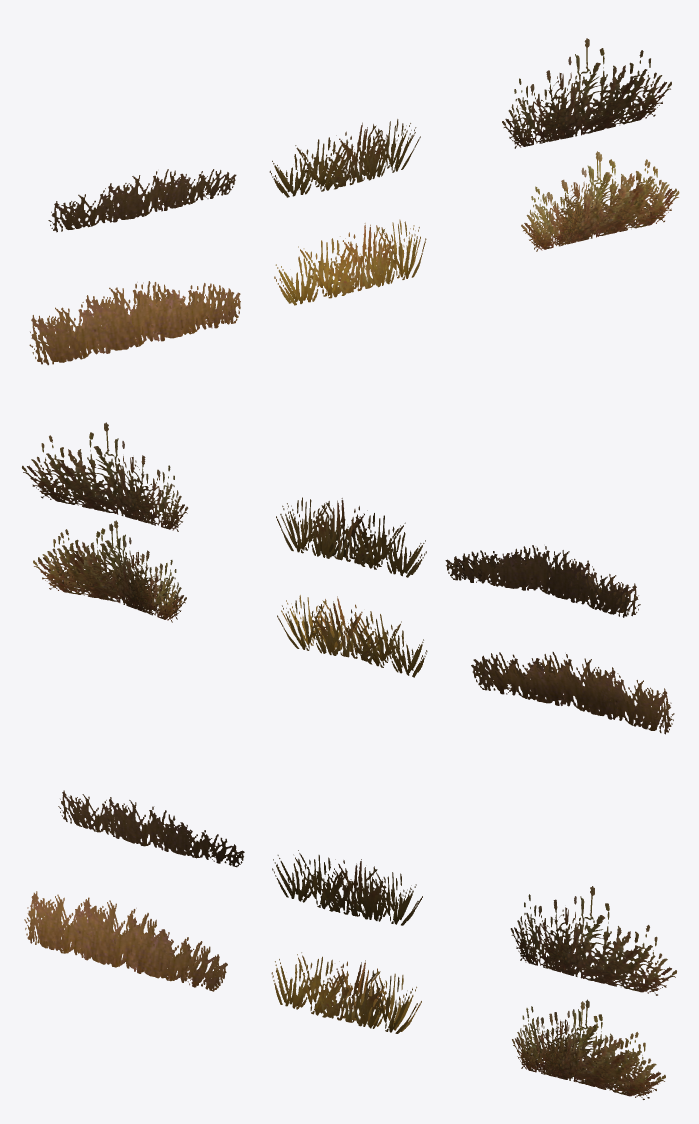
The model's file is Grass_P05.fbx.
3 renders of one model, top to bottom at view 1: azimuth 30°, elevation 25°; view 2: azimuth 150°, elevation 25°; view 3: azimuth 330°, elevation 25°, orthographic.
Visible parts, largest first — view 1: Grass, Grass_3_D, Grass_1_D, Grass_2_D; view 2: Grass, Grass_3_D, Grass_1_D, Grass_2_D; view 3: Grass, Grass_3_D, Grass_1_D, Grass_2_D.
Boxes of the visible parts, <box> form: Grass: <box>29,151,679,365</box>; Grass_3_D: <box>502,38,671,148</box>; Grass_1_D: <box>48,169,236,232</box>; Grass_2_D: <box>269,119,420,197</box>; Grass: <box>33,520,674,734</box>; Grass_3_D: <box>22,422,188,531</box>; Grass_1_D: <box>445,545,640,617</box>; Grass_2_D: <box>276,497,426,577</box>; Grass: <box>24,891,665,1099</box>; Grass_3_D: <box>510,886,676,995</box>; Grass_1_D: <box>58,790,244,867</box>; Grass_2_D: <box>272,850,422,925</box>.
Bounding box in the file's own units: 1029 × 296 × 59.28.
